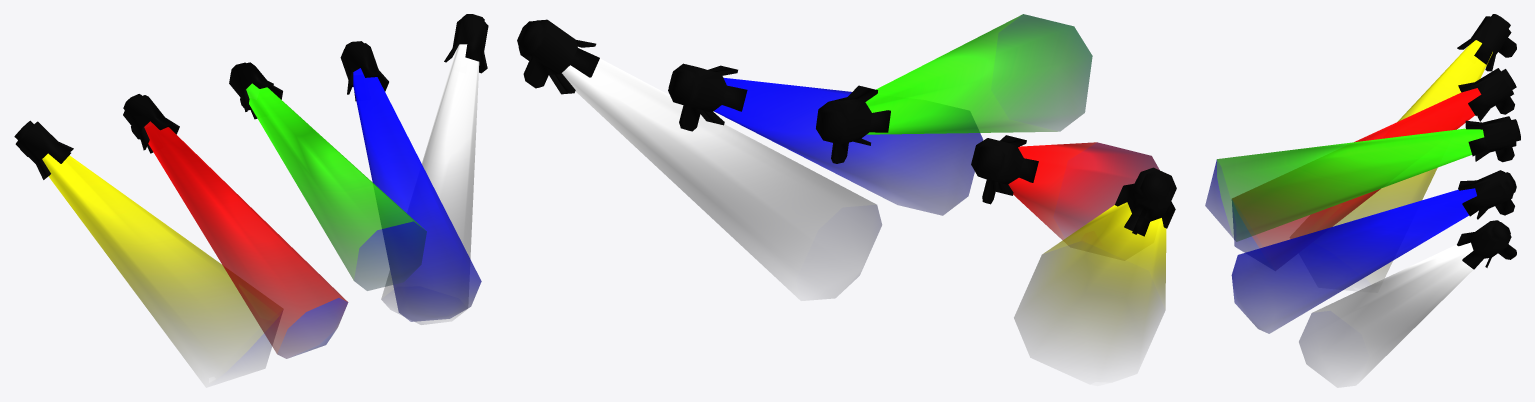
The model's file is LightingArraySpotlightsDarkOn.glb.
3 views of the same model, side by side, from view 1: azimuth 30°, elevation 25°; view 2: azimuth 150°, elevation 25°; view 3: azimuth 270°, elevation 25° (orthographic). The views are drawn at different scales.
Visible parts, largest first — view 1: LightingArraySpotlightsDarkOn; view 2: LightingArraySpotlightsDarkOn; view 3: LightingArraySpotlightsDarkOn.
Part boxes in pixels (bbox=[...]): LightingArraySpotlightsDarkOn: bbox=[14, 14, 488, 375]; LightingArraySpotlightsDarkOn: bbox=[517, 14, 1176, 365]; LightingArraySpotlightsDarkOn: bbox=[1205, 14, 1520, 382].
Size of the model in its own units: 13.19 by 6.31 by 8.01.
Materials: 2 (2 with a texture image).
